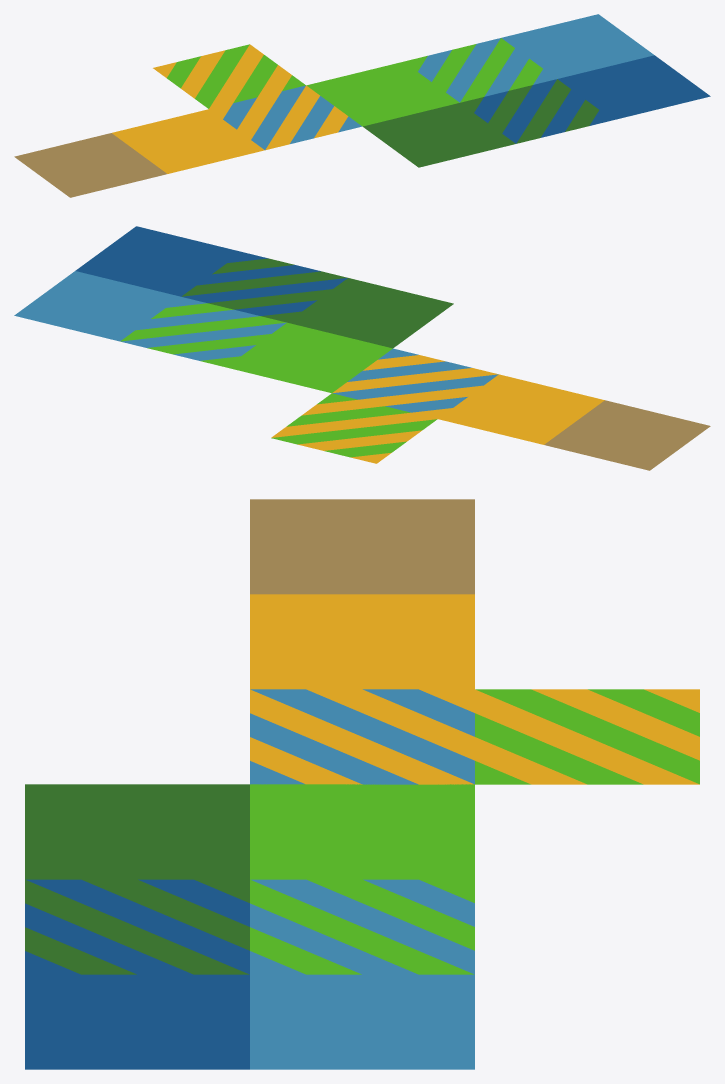
Rendered from ZoningTiles.fbx.
3 views of the same model, one above another, from view 1: azimuth 30°, elevation 25°; view 2: azimuth 150°, elevation 25°; view 3: azimuth 270°, elevation 25° (orthographic). The views are drawn at different scales.
Parts seen in each view (by area): view 1: zoning_mixed_2, zoning_mixed_1, zoning_commercial_1, zoning_commercial_2, zoning_industrial, zoning_mixed_3, zoning_farming, zoning_industrial_heavy, zoning_residential_2, zoning_residential_1; view 2: zoning_mixed_2, zoning_industrial, zoning_farming, zoning_industrial_heavy, zoning_commercial_2, zoning_mixed_1, zoning_commercial_1, zoning_residential_1, zoning_residential_2, zoning_mixed_3; view 3: zoning_commercial_2, zoning_residential_1, zoning_mixed_2, zoning_residential_2, zoning_mixed_1, zoning_commercial_1, zoning_mixed_3, zoning_industrial, zoning_farming, zoning_industrial_heavy.
Part boxes in pixels (box(x1,y1,x2,y2)): zoning_mixed_2: box(460, 79, 613, 143); zoning_mixed_1: box(404, 38, 556, 102); zoning_commercial_1: box(501, 14, 654, 78); zoning_commercial_2: box(558, 55, 710, 119); zoning_industrial: box(112, 109, 264, 173); zoning_mixed_3: box(209, 85, 361, 150); zoning_farming: box(153, 44, 305, 108); zoning_industrial_heavy: box(14, 133, 166, 197); zoning_residential_2: box(363, 103, 515, 167); zoning_residential_1: box(306, 61, 459, 126); zoning_mixed_2: box(181, 252, 347, 322); zoning_industrial: box(438, 374, 604, 444); zoning_farming: box(271, 393, 437, 463); zoning_industrial_heavy: box(544, 400, 710, 470); zoning_commercial_2: box(75, 226, 241, 296); zoning_mixed_1: box(120, 297, 286, 367); zoning_commercial_1: box(14, 271, 180, 341); zoning_residential_1: box(226, 322, 392, 393); zoning_residential_2: box(287, 278, 453, 348); zoning_mixed_3: box(332, 348, 498, 418); zoning_commercial_2: box(25, 974, 249, 1069); zoning_residential_1: box(250, 784, 474, 879); zoning_mixed_2: box(25, 879, 249, 974); zoning_residential_2: box(25, 784, 249, 879); zoning_mixed_1: box(250, 879, 474, 974); zoning_commercial_1: box(250, 974, 474, 1069); zoning_mixed_3: box(250, 689, 474, 784); zoning_industrial: box(250, 594, 474, 689); zoning_farming: box(475, 689, 699, 784); zoning_industrial_heavy: box(250, 499, 474, 594).
Size of the model in its own units: 600 by 0 by 300.
